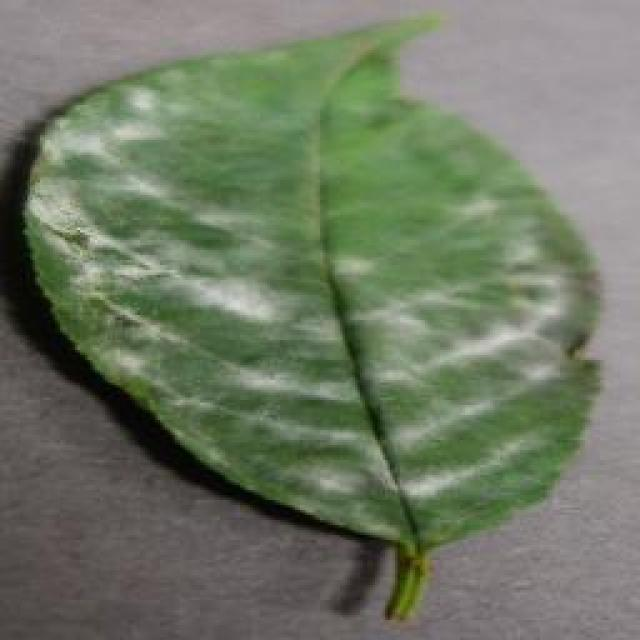Cherry___Powdery_mildew: (8, 0, 618, 638)
